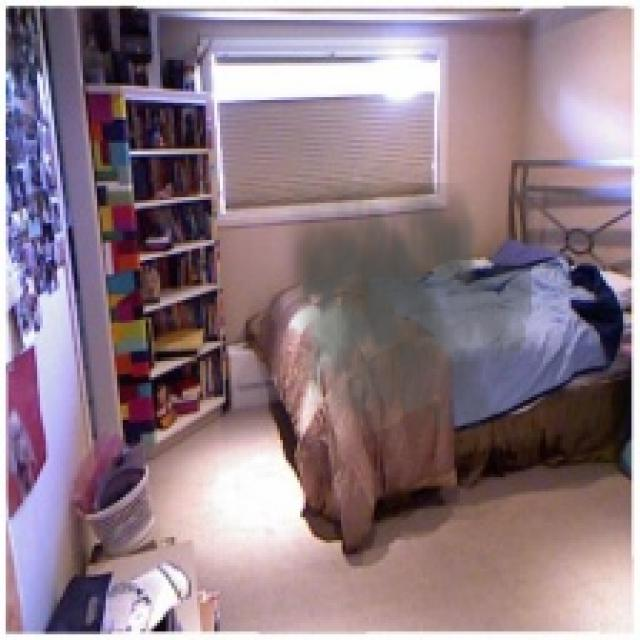smoke: (277, 183, 532, 466)
